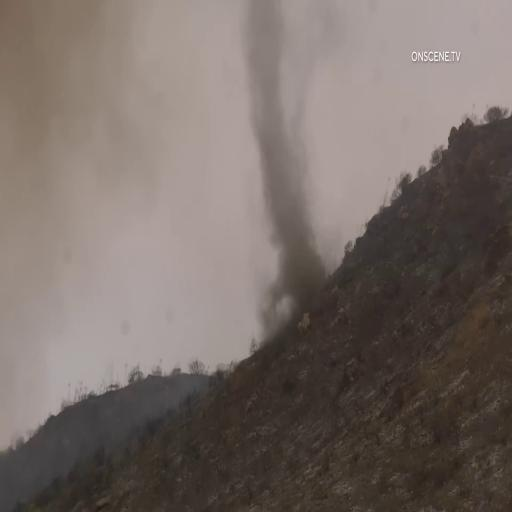smoke: (242, 10, 318, 284)
